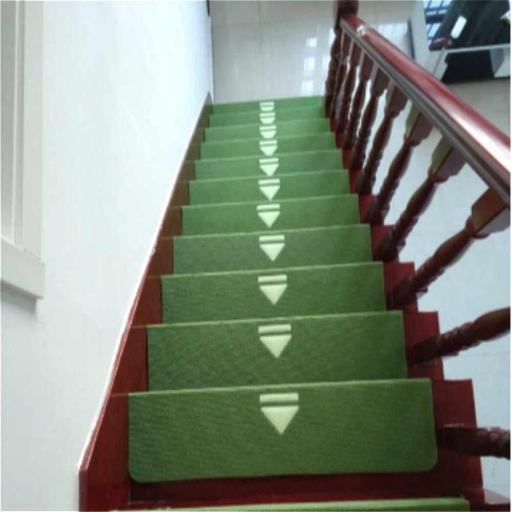Stairs: (129, 97, 436, 482)
